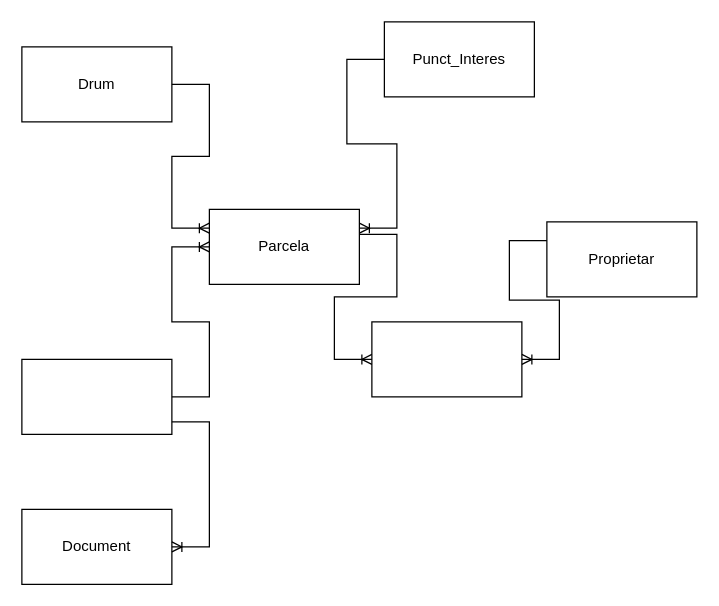
Image size: 719x606. Some labels were removed from this diagram. Each missing label, with the box of its shape:
Lucrare: (21, 358, 172, 434)
Parcela_Proprietar: (371, 321, 522, 397)
